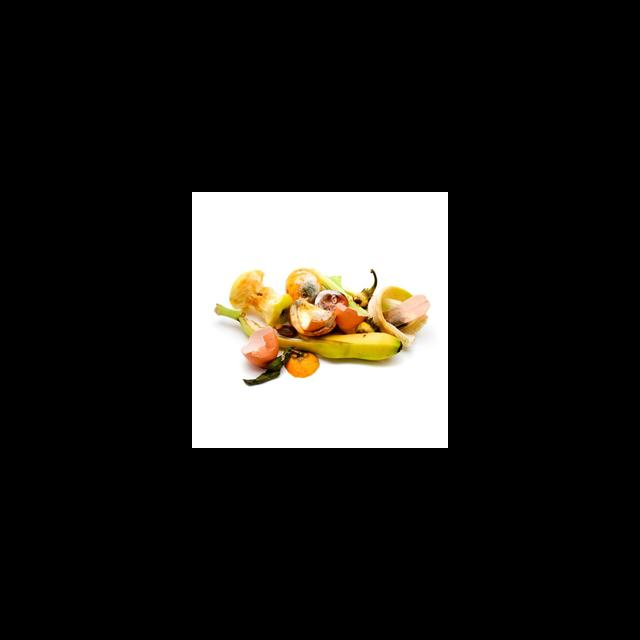food_waste: (212, 269, 432, 386)
